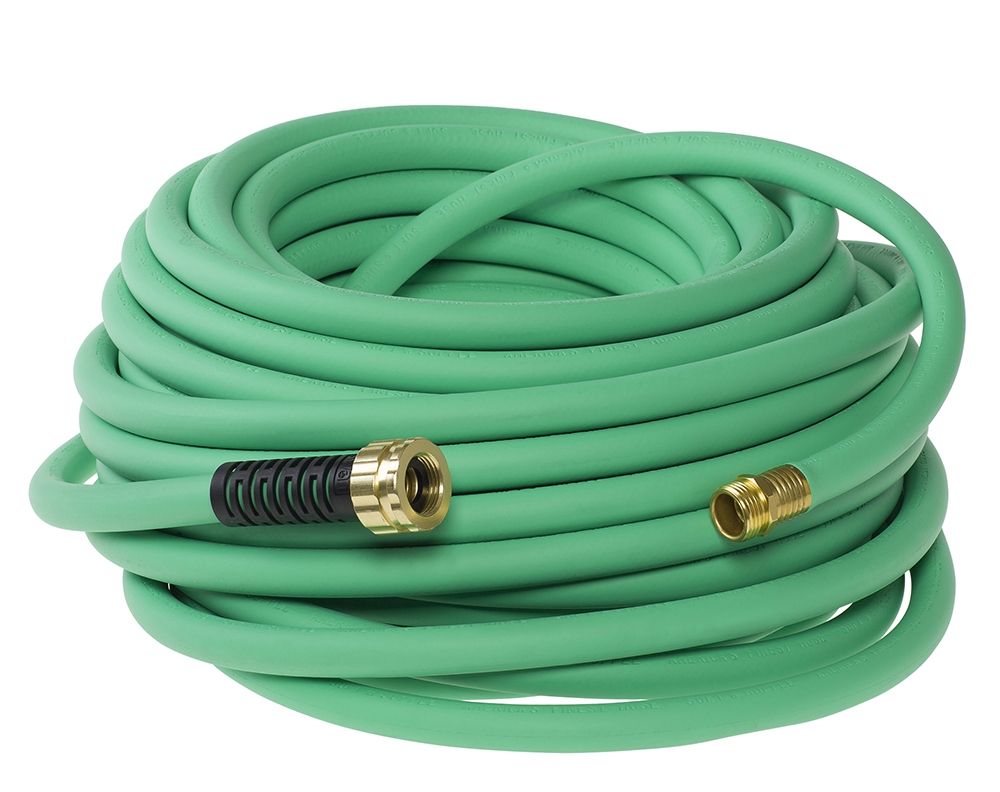Nonrec_Tangler: (14, 59, 970, 759)
